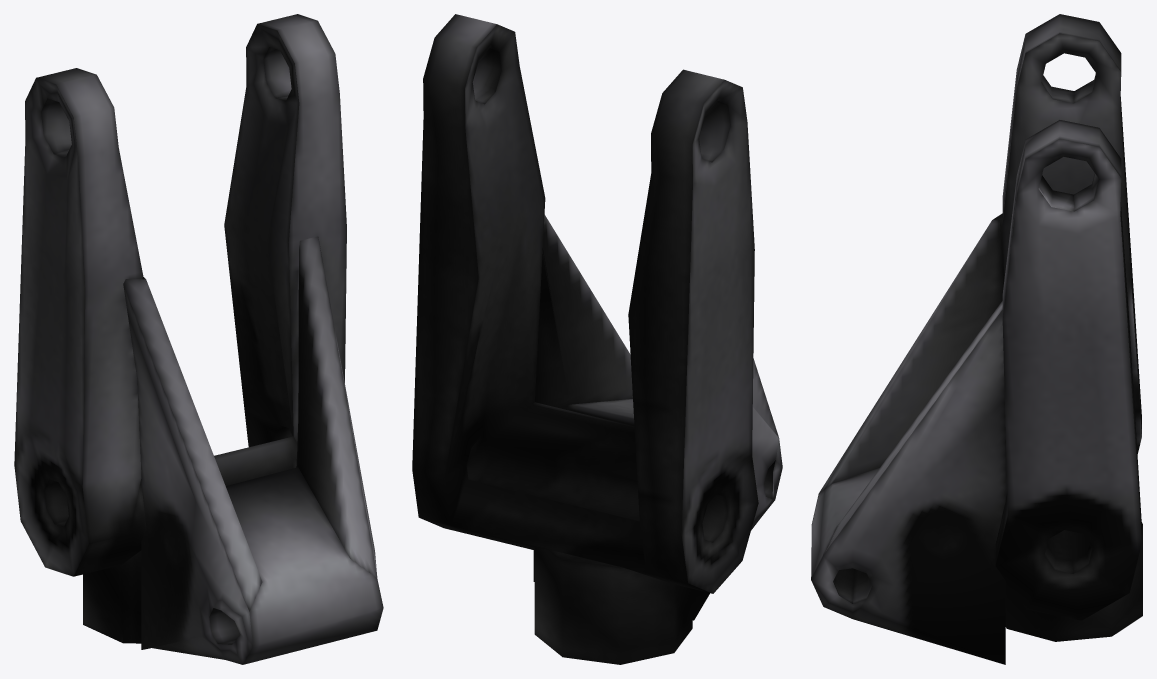
File: r_uglut.dae
The picture shows the model from 3 angles, left to right: view 1: azimuth 30°, elevation 25°; view 2: azimuth 150°, elevation 25°; view 3: azimuth 270°, elevation 25°; orthographic projection. The views are drawn at different scales.
Visible parts, largest first — view 1: r_uglut; view 2: r_uglut; view 3: r_uglut.
Boxes of the visible parts, bbox=[...] form: r_uglut: bbox=[14, 14, 383, 664]; r_uglut: bbox=[412, 14, 782, 664]; r_uglut: bbox=[811, 14, 1142, 664].
Size of the model in its own units: 0.0824 by 0.0922 by 0.1684.
1 material, 1 textured.
